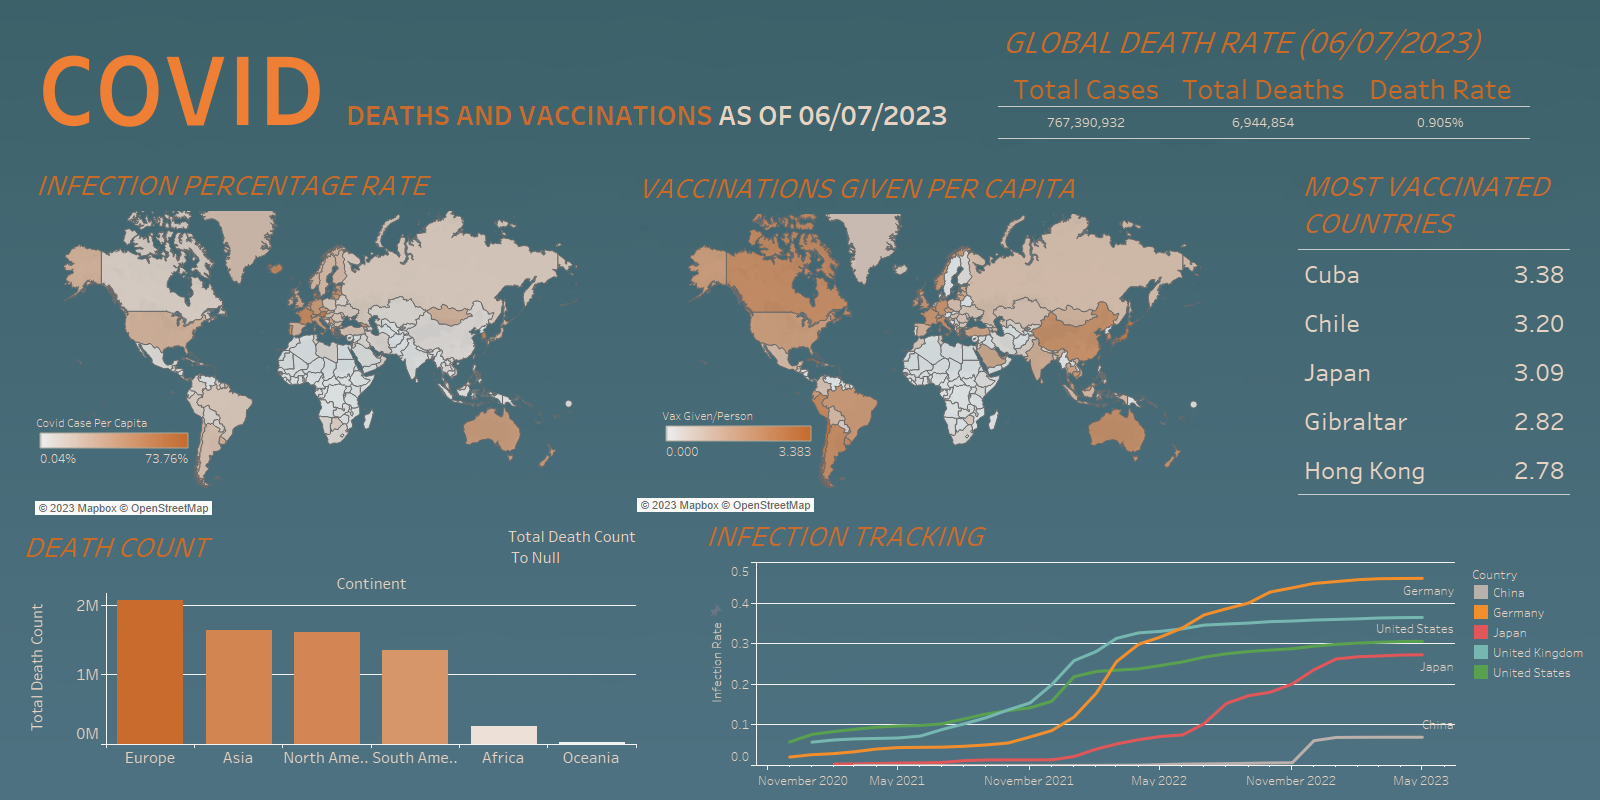

This screenshot's page, from the dashboard's own definition file:
{"tool":"tableau","page":{"name":"Dashboard 1","canvas":[1600,800],"ordinal":0},"visuals":[{"type":"worksheet","title":"Global Death Rate","mark":"Automatic","box":[994,11,590,132]},{"type":"text","box":[35,28,935,116]},{"type":"worksheet","title":"Infection Percentage","mark":"Automatic","box":[27,155,587,367]},{"type":"worksheet","title":"Top 5 Most Vaccinated Countires","mark":"Automatic","rows":["Location (Vaccination Track Plus)"],"box":[1294,156,280,343]},{"type":"worksheet","title":"Vaccination Map","mark":"Multipolygon","box":[629,158,630,361]},{"type":"legend","title":"Vaccination Map","param":"[federated.0jqqdzl0pblk8g10saugk0gphrts].[max:PercentPeopleVaccinated:qk]","box":[658,400,162,66]},{"type":"legend","title":"Infection Percentage","param":"[federated.0jqqdzl0pblk8g10saugk0gphrts].[max:PercentPopulationInfected (Infecti","box":[32,407,165,63]},{"type":"worksheet","title":"Infection Percentage Track","mark":"Line","rows":["PercentPopulationInfected (Infection PC Growth by Country)"],"cols":["date (Infection PC Growth by Country)"],"box":[697,506,762,284]},{"type":"worksheet","title":"Continent Death Count","mark":"Automatic","rows":["TotalDeathCount"],"cols":["continent"],"box":[15,517,625,271]},{"type":"filter","title":"Continent Death Count","param":"[federated.0wi1h5h0qzx5b7183t9ny0uts300].[sum:TotalDeathCount:qk]","box":[504,521,137,70]},{"type":"legend","title":"Infection Percentage Track","param":"[federated.0jqqdzl0pblk8g10saugk0gphrts].[none:Location (Infection PC Growth by ","box":[1467,560,134,156]},{"type":"legend","title":"Infection Percentage Track","param":"[federated.0jqqdzl0pblk8g10saugk0gphrts].[sum:PercentPeopleVaccinated:qk]","box":[1467,716,134,61]}]}

Visuals, with their boxes in screenshot pixels (x1, y1, x2, y2), scaled from the page's 1600x800 canvas onto the 1600x800 screenshot:
"Global Death Rate" worksheet: left=994, top=11, right=1584, bottom=143
text: left=35, top=28, right=970, bottom=144
"Infection Percentage" worksheet: left=27, top=155, right=614, bottom=522
"Top 5 Most Vaccinated Countires" worksheet: left=1294, top=156, right=1574, bottom=499
"Vaccination Map" worksheet (Multipolygon marks): left=629, top=158, right=1259, bottom=519
"Vaccination Map" legend: left=658, top=400, right=820, bottom=466
"Infection Percentage" legend: left=32, top=407, right=197, bottom=470
"Infection Percentage Track" worksheet (Line marks): left=697, top=506, right=1459, bottom=790
"Continent Death Count" worksheet: left=15, top=517, right=640, bottom=788
"Continent Death Count" filter: left=504, top=521, right=641, bottom=591
"Infection Percentage Track" legend: left=1467, top=560, right=1599, bottom=716
"Infection Percentage Track" legend: left=1467, top=716, right=1599, bottom=777
